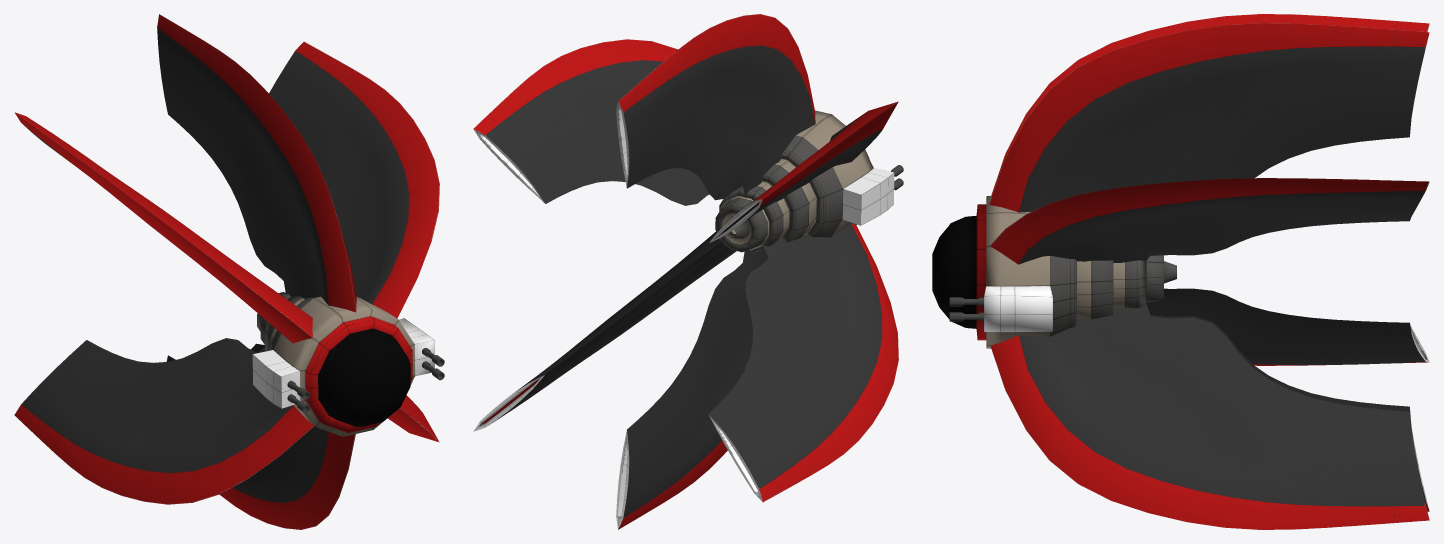
The model's file is light_ship_red_swap.fbx.
3 views of the same model, side by side, from view 1: azimuth 30°, elevation 25°; view 2: azimuth 150°, elevation 25°; view 3: azimuth 270°, elevation 25° (orthographic). The views are drawn at different scales.
Parts seen in each view (by area): view 1: light_combined; view 2: light_combined; view 3: light_combined.
Part boxes in pixels (x1,y1,x2,y2): light_combined: [14, 14, 444, 529]; light_combined: [473, 14, 903, 529]; light_combined: [932, 14, 1429, 529].
Size of the model in its own units: 47.85 by 67.67 by 61.31.
Materials: 1 (1 with a texture image).
